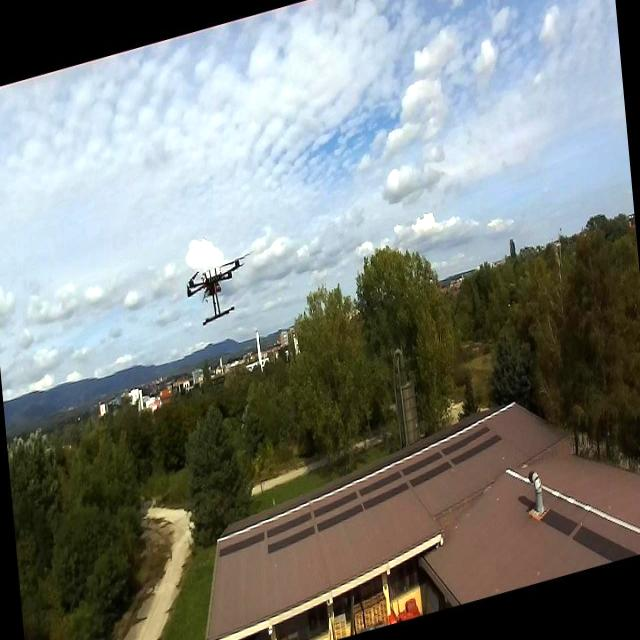drone: (184, 247, 252, 333)
